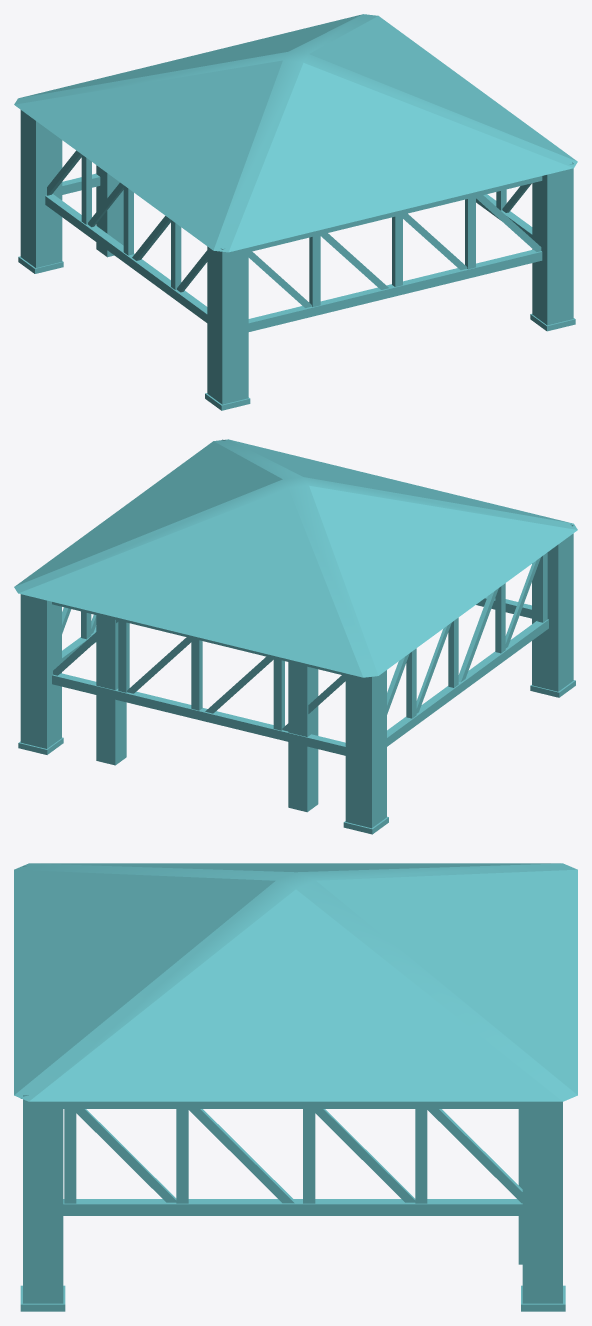
The model's file is Elevator_Shaft_Top.fbx.
The picture shows the model from 3 angles, top to bottom: view 1: azimuth 30°, elevation 25°; view 2: azimuth 150°, elevation 25°; view 3: azimuth 270°, elevation 25°; orthographic projection. The views are drawn at different scales.
Parts seen in each view (by area): view 1: Elevator_Shaft_Top; view 2: Elevator_Shaft_Top; view 3: Elevator_Shaft_Top.
Boxes of the visible parts, <box> form: Elevator_Shaft_Top: <box>14,14,577,410</box>; Elevator_Shaft_Top: <box>14,439,577,834</box>; Elevator_Shaft_Top: <box>14,863,577,1311</box>.
Bounding box in the file's own units: 380 × 234 × 380.
